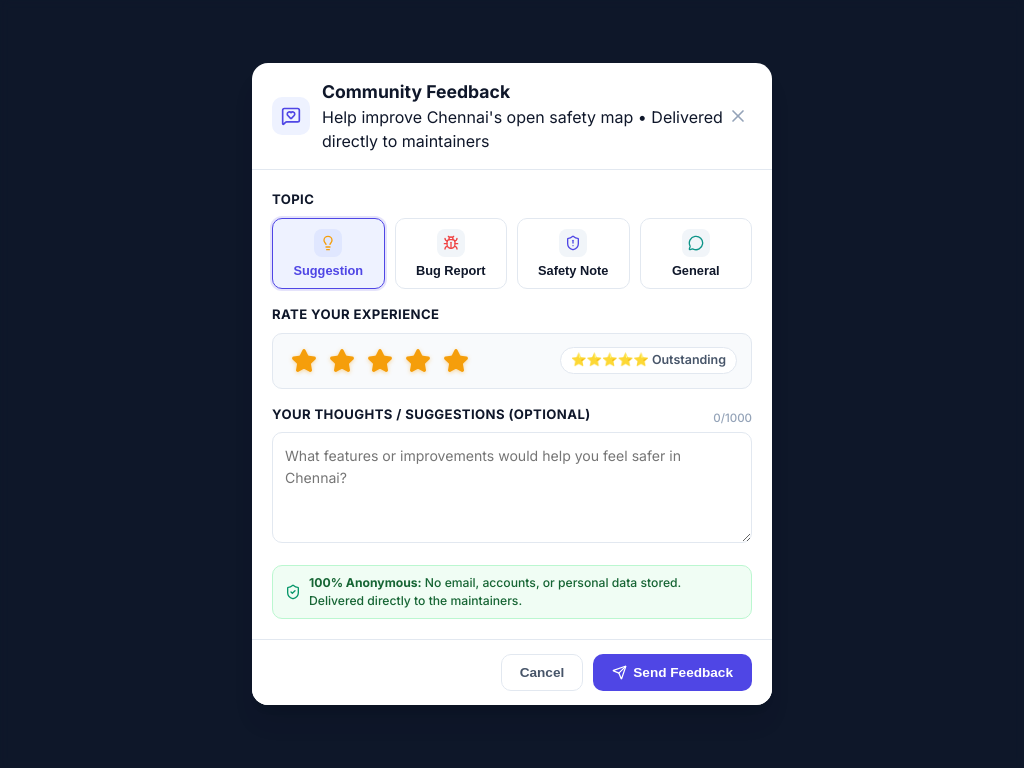
Test: FeedbackModal Component › submits feedback successfully without entering message (optional thoughts)
The width and height of the screenshot is (1024, 768).
What coordinates should you click on to do the following:
click the button "Send Feedback"
I would click on:
 (673, 673)
Its box is [593,654,752,691].
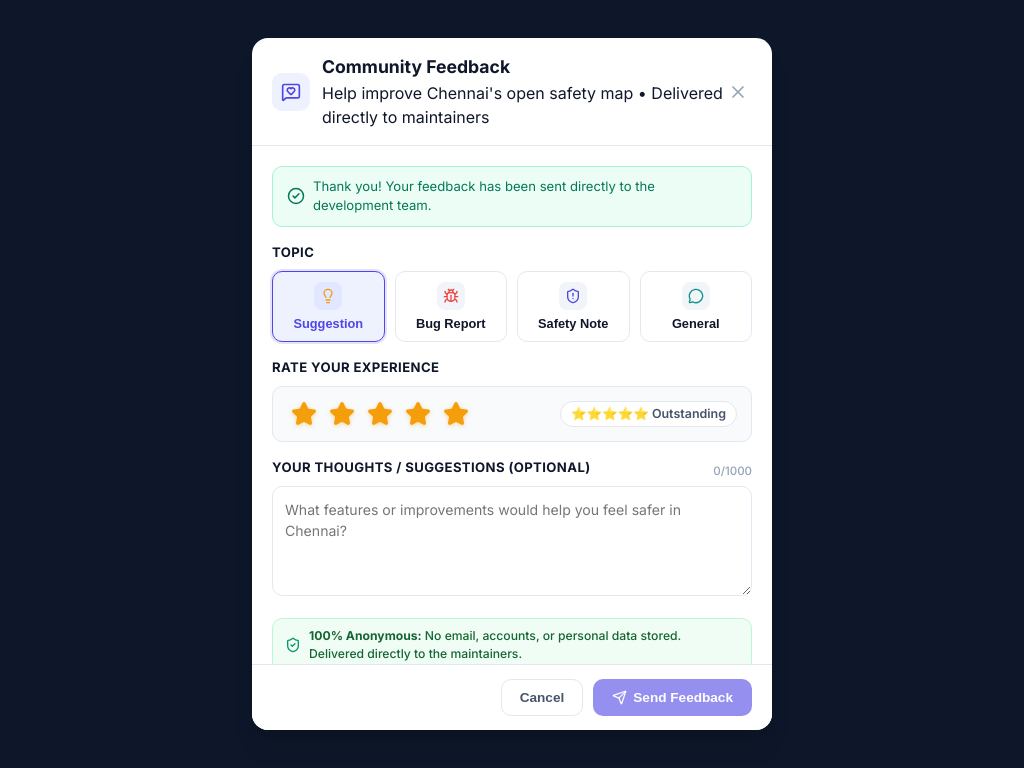
Expected: the text "Thank you! Your feedback" is shown, [313,178,655,214]
